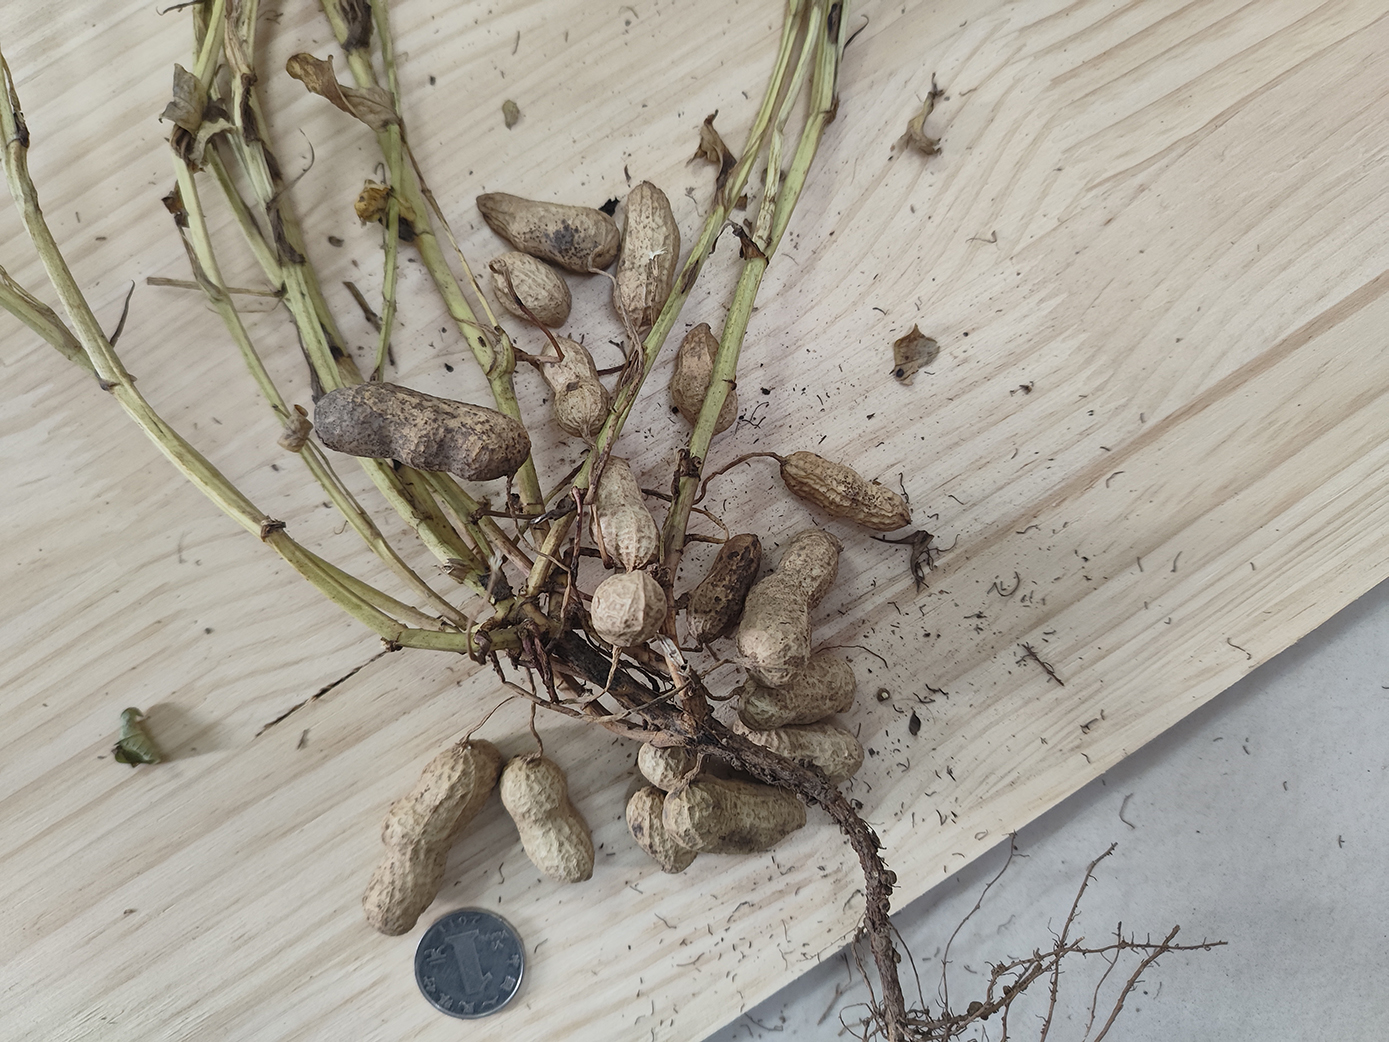h: (360, 742, 499, 937), (741, 532, 838, 684), (502, 755, 599, 884), (475, 192, 620, 277), (662, 775, 809, 854), (782, 453, 913, 528), (613, 182, 679, 324), (586, 453, 659, 570), (670, 324, 740, 435), (736, 662, 853, 728), (738, 723, 866, 783), (693, 535, 763, 642), (542, 335, 607, 438), (487, 253, 569, 329), (628, 788, 698, 875), (592, 572, 668, 647), (637, 737, 702, 794)
l: (316, 382, 531, 482)
